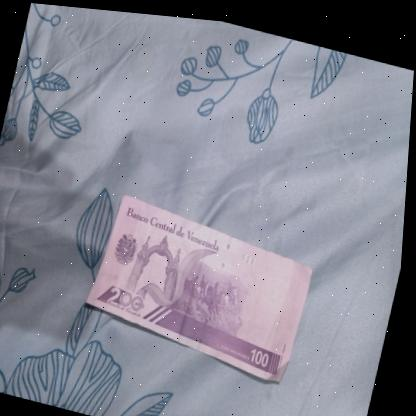one_hundred-back-vef: (80, 185, 324, 382)
